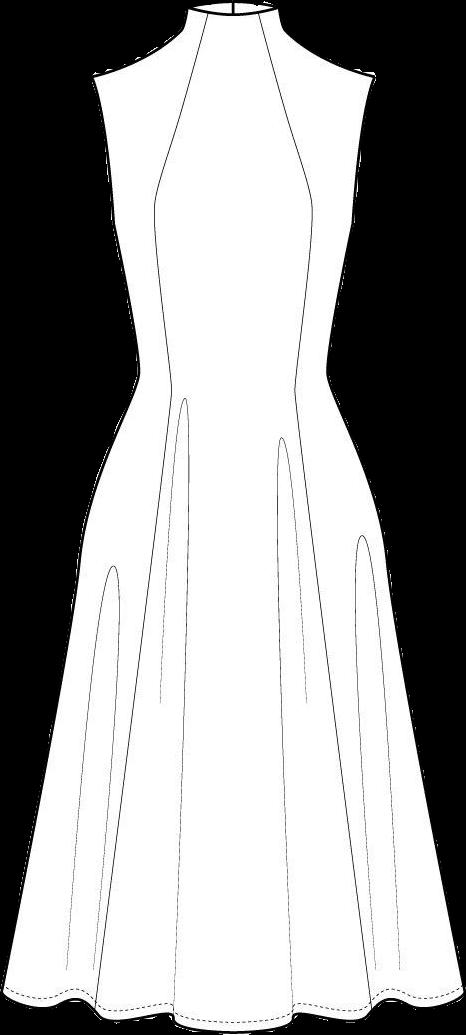Bodice: (93, 2, 375, 372)
Hemline: (0, 984, 465, 1034)
Neckline: (187, 2, 276, 20)
Skirt: (3, 373, 462, 1031)
